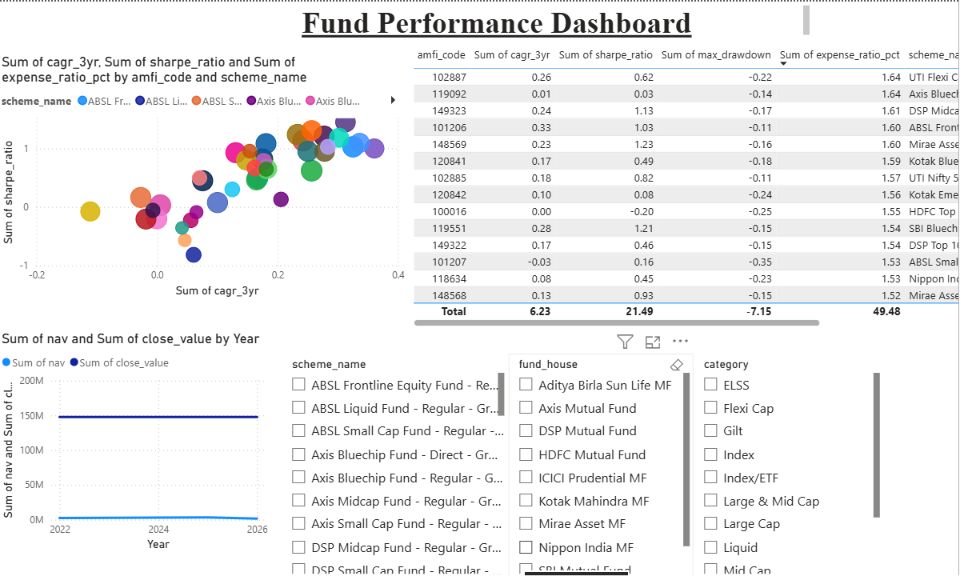

Layout of this report page (visuals, bound fields, positions):
{"tool":"powerbi","page":{"name":"Fund Performance","canvas":[1280,720],"ordinal":1},"visuals":[{"type":"scatterChart","fields":{"X":["Sum(fund_scorecard.cagr_3yr)"],"Y":["Sum(fund_scorecard.sharpe_ratio)"],"Size":["Sum(fund_scorecard.expense_ratio_pct)"],"Category":["fund_scorecard.amfi_code"],"Series":["07_scheme_performance_cleaned.scheme_name"]},"box":[10,65,513.8,308.8],"z":0},{"type":"tableEx","fields":{"Values":["fund_scorecard.amfi_code","Sum(fund_scorecard.cagr_3yr)","Sum(fund_scorecard.sharpe_ratio)","Sum(fund_scorecard.max_drawdown)","Sum(fund_scorecard.expense_ratio_pct)","07_scheme_performance_cleaned.scheme_name","07_scheme_performance_cleaned.category"]},"box":[523.8,50,756.2,361.2],"z":1000},{"type":"lineChart","fields":{"Category":["02_nav_history_cleaned.date.Variation.Date Hierarchy.Year","02_nav_history_cleaned.date.Variation.Date Hierarchy.Quarter","02_nav_history_cleaned.date.Variation.Date Hierarchy.Month","02_nav_history_cleaned.date.Variation.Date Hierarchy.Day"],"Y":["Sum(02_nav_history_cleaned.nav)","Sum(10_benchmark_indices.close_value)"]},"box":[10,411.2,342.5,280],"z":2000},{"type":"slicer","fields":{"Values":["07_scheme_performance_cleaned.scheme_name"]},"box":[365,440,283.8,280],"z":3000},{"type":"slicer","fields":{"Values":["07_scheme_performance_cleaned.fund_house"]},"box":[648.8,440,231.2,280],"z":4000},{"type":"slicer","fields":{"Values":["07_scheme_performance_cleaned.category"]},"box":[880,440,237.5,280],"z":5000},{"type":"textbox","box":[385,0,645,50],"z":5001}]}

Visuals, with their boxes on the page's 1280x720 design canvas (x1, y1, x2, y2). These are canvas units, not pixel positions in the 965x576 screenshot, which may show the page scaled, cropped or inside an application window:
scatterChart - Sum(fund_scorecard.cagr_3yr) x Sum(fund_scorecard.sharpe_ratio): <box>10,65,524,374</box>
tableEx - fund_scorecard.amfi_code x Sum(fund_scorecard.cagr_3yr): <box>524,50,1280,411</box>
lineChart - 02_nav_history_cleaned.date.Variation.Date Hierarchy.Year x 02_nav_history_cleaned.date.Variation.Date Hierarchy.Quarter: <box>10,411,352,691</box>
slicer - 07_scheme_performance_cleaned.scheme_name: <box>365,440,649,720</box>
slicer - 07_scheme_performance_cleaned.fund_house: <box>649,440,880,720</box>
slicer - 07_scheme_performance_cleaned.category: <box>880,440,1118,720</box>
textbox: <box>385,0,1030,50</box>
